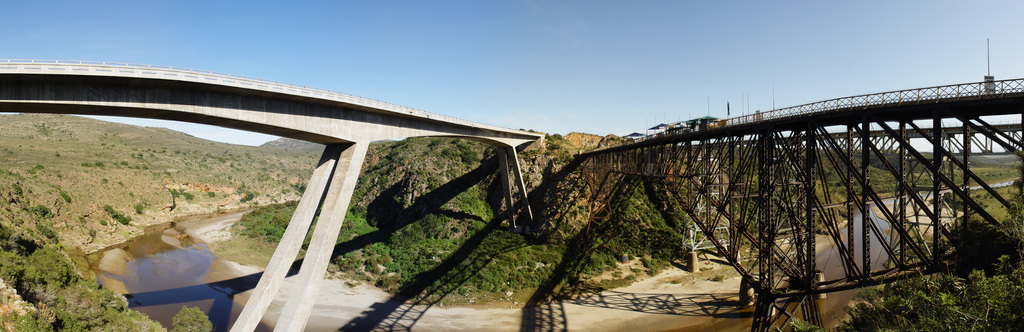Tree: (0, 148, 1023, 331)
